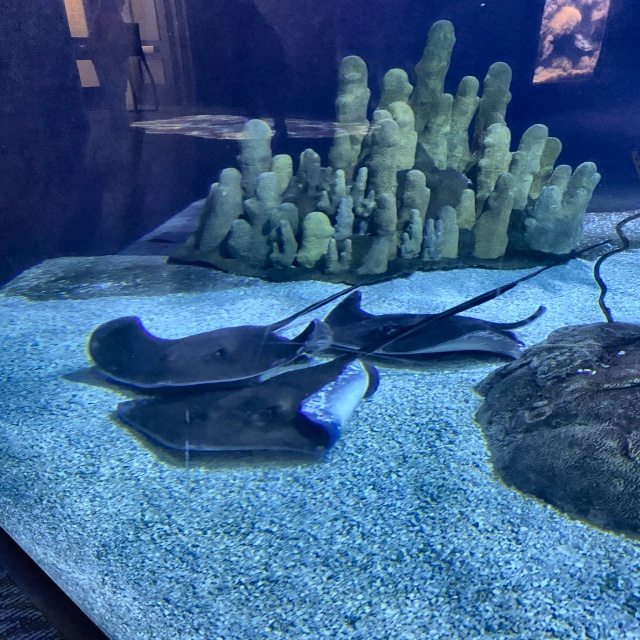stingray: (113, 357, 375, 453), (90, 316, 308, 388), (316, 290, 527, 359)
